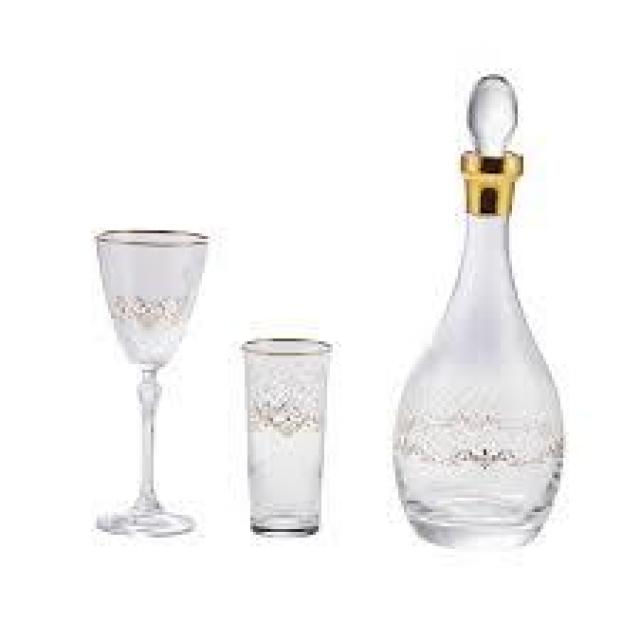non-organic waste: (387, 73, 572, 553), (80, 219, 213, 540), (230, 332, 338, 536)
